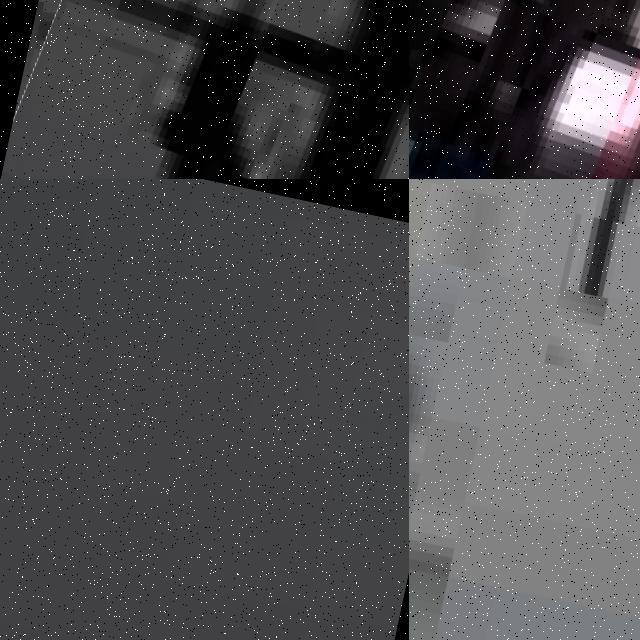drone: (0, 0, 409, 179), (409, 0, 640, 179)
